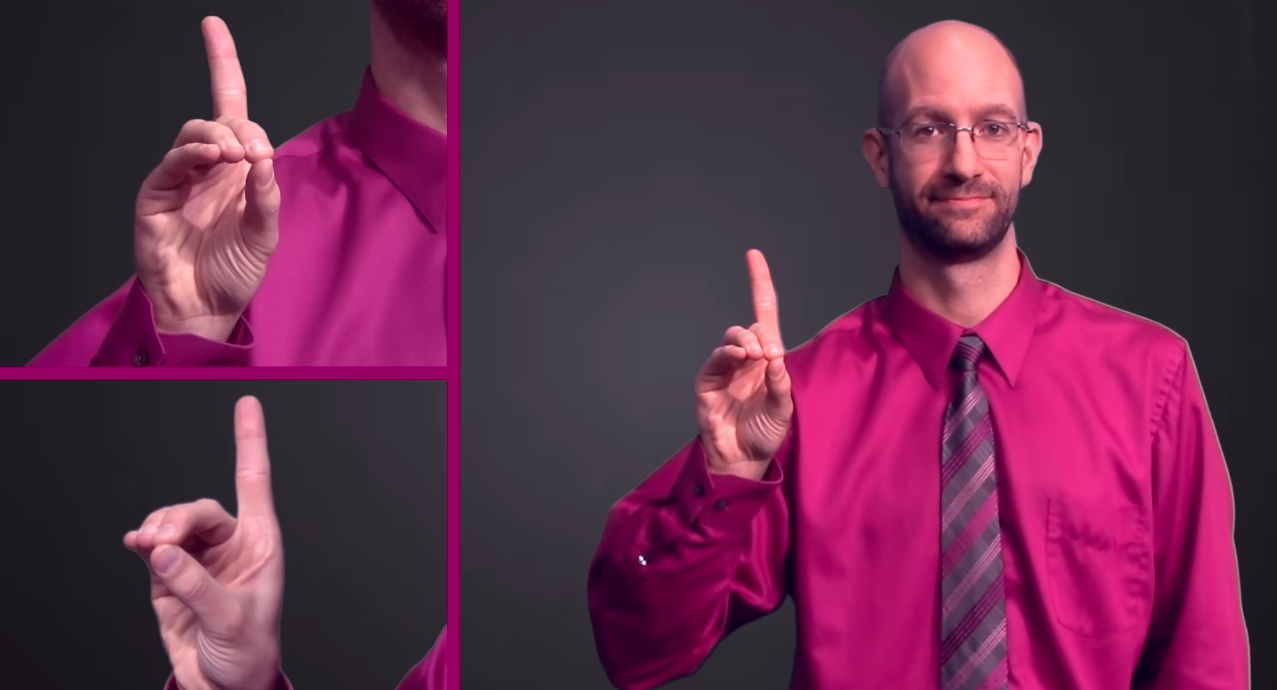d: (109, 389, 314, 689), (119, 10, 298, 338), (670, 237, 810, 471)
